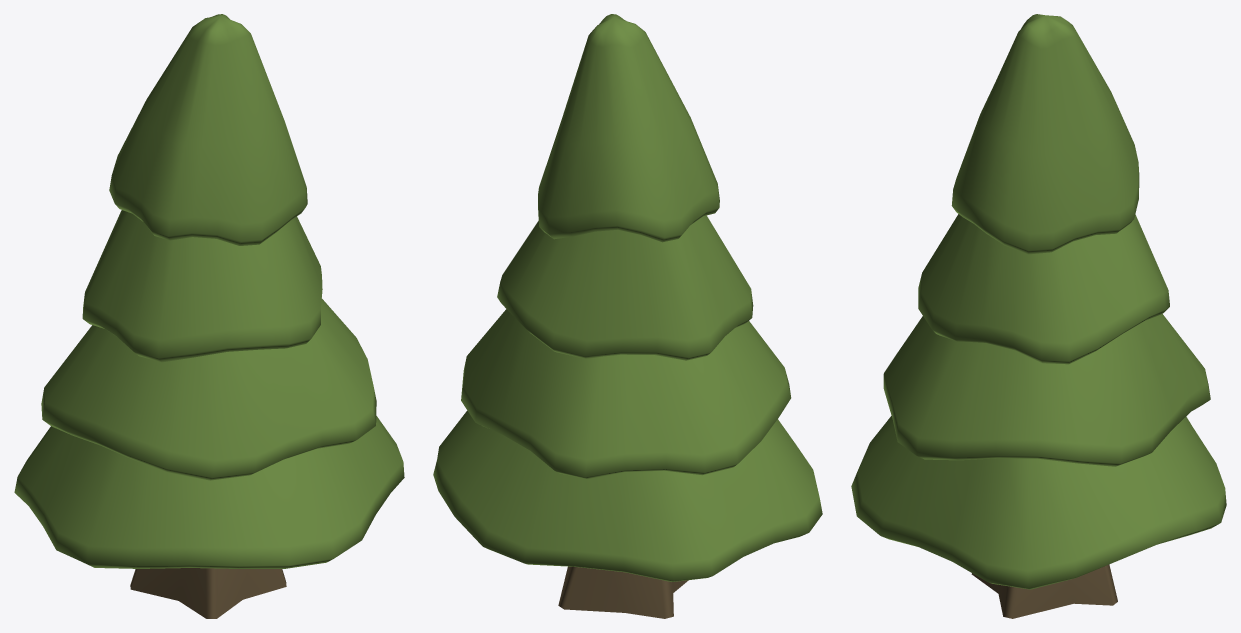
File: ChocolatePineTree_MDL.fbx
3 views of the same model, side by side, from view 1: azimuth 30°, elevation 25°; view 2: azimuth 150°, elevation 25°; view 3: azimuth 270°, elevation 25° (orthographic). The views are drawn at different scales.
Visible parts, largest first — view 1: pine_tree_GEO; view 2: pine_tree_GEO; view 3: pine_tree_GEO.
Boxes of the visible parts, bbox=[...] form: pine_tree_GEO: bbox=[14, 14, 404, 618]; pine_tree_GEO: bbox=[433, 14, 822, 618]; pine_tree_GEO: bbox=[851, 14, 1226, 618].
Bounding box in the file's own units: 452 × 705 × 414.
